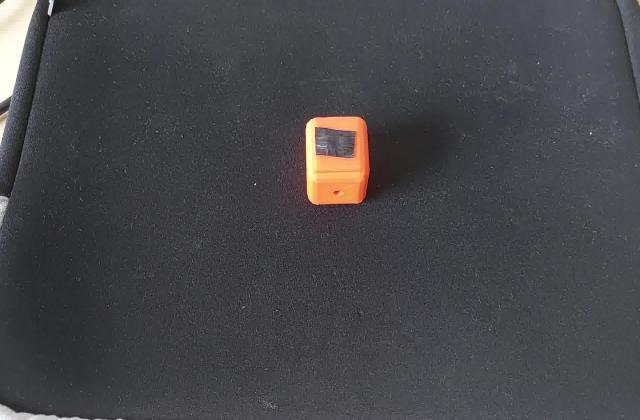black: (309, 124, 362, 164)
sticker: (300, 113, 375, 210)
